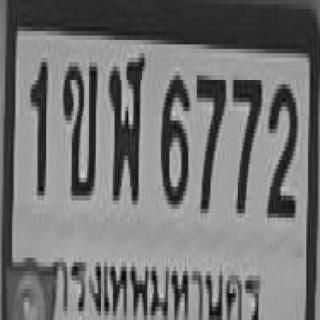A02: (62, 58, 96, 196)
A42: (108, 51, 144, 198)
N01: (29, 58, 46, 191)
N02: (265, 80, 296, 213)
N06: (159, 71, 188, 204)
N07: (195, 71, 224, 209), (231, 76, 260, 209)
P04: (48, 241, 266, 320)
